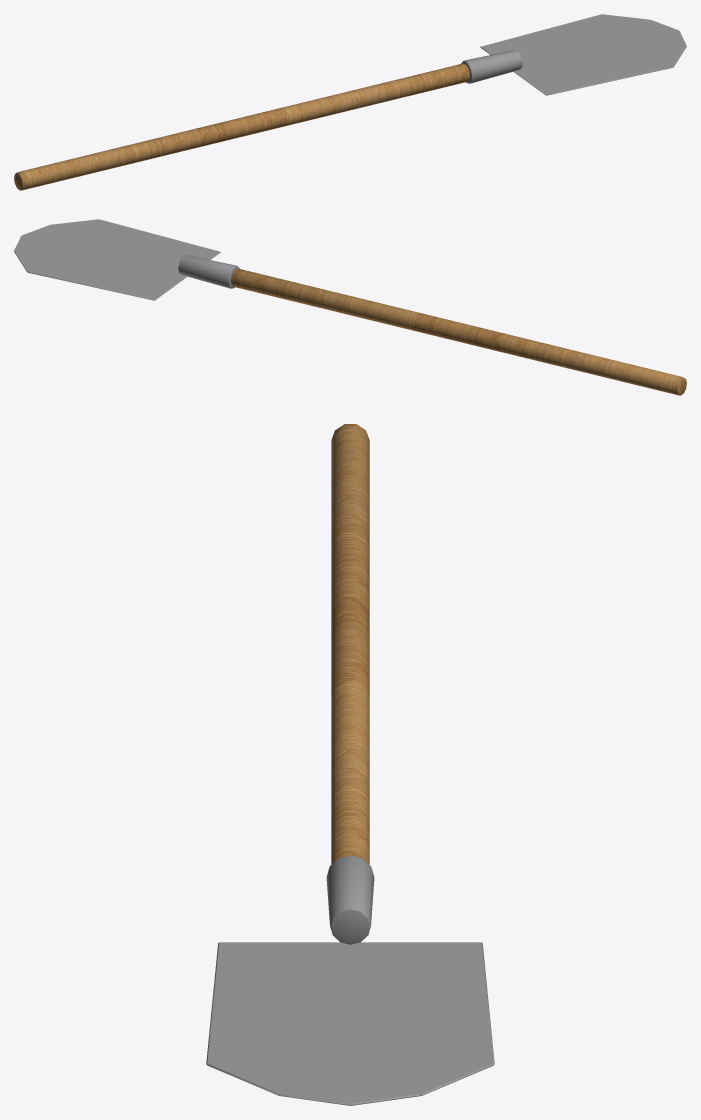
The model's file is EQP-MAO-003_anim.glb.
The picture shows the model from 3 angles, top to bottom: view 1: azimuth 30°, elevation 25°; view 2: azimuth 150°, elevation 25°; view 3: azimuth 270°, elevation 25°; orthographic projection. The views are drawn at different scales.
Visible parts, largest first — view 1: EQP-MAO-003_anim0; view 2: EQP-MAO-003_anim0; view 3: EQP-MAO-003_anim0.
Boxes of the visible parts, x1,y1,x2,y2 form: EQP-MAO-003_anim0: [14, 14, 686, 190]; EQP-MAO-003_anim0: [14, 219, 686, 395]; EQP-MAO-003_anim0: [206, 424, 494, 1105].
Bounding box in the file's own units: 1.27 × 0.0399 × 0.2399.
Materials: 2 (1 with a texture image).
